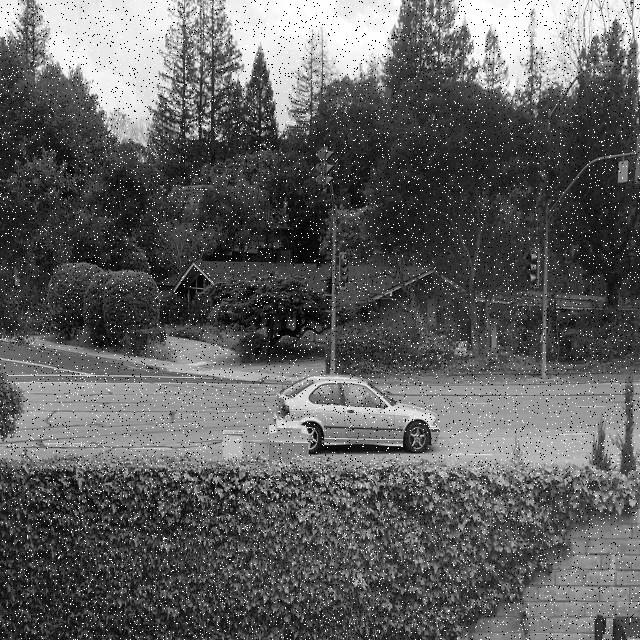Sedan: (272, 375, 439, 455)
